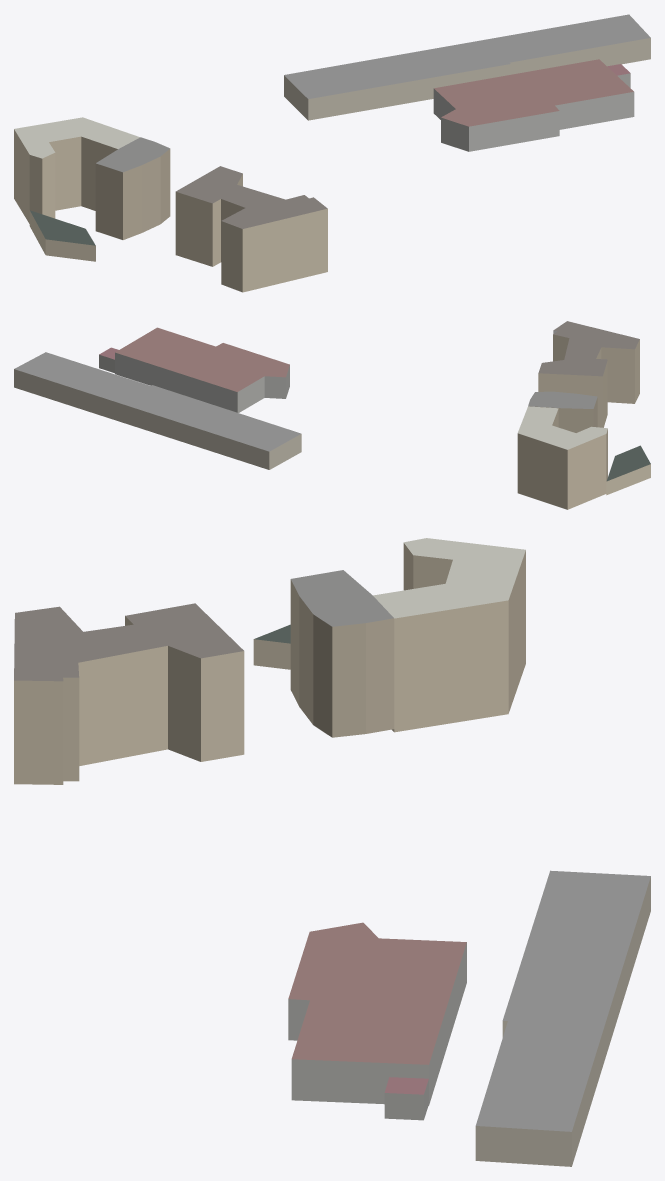
3 renders of one model, top to bottom at view 1: azimuth 30°, elevation 25°; view 2: azimuth 150°, elevation 25°; view 3: azimuth 270°, elevation 25°, orthographic. The views are drawn at different scales.
Parts seen in each view (by area): view 1: tuile; view 2: tuile; view 3: tuile.
Part boxes in pixels (x1=…): tuile: x1=14, y1=14, x2=650, y2=292; tuile: x1=14, y1=321, x2=650, y2=509; tuile: x1=14, y1=538, x2=650, y2=1166.
Size of the model in its own units: 270 by 27.94 by 138.
